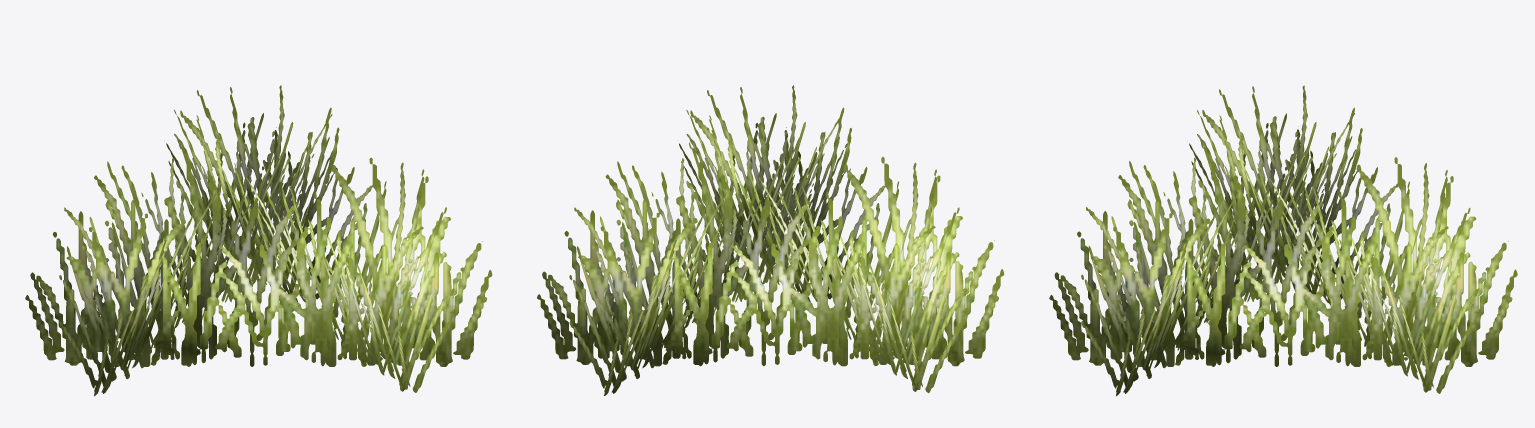
The model's file is grass_tropic_field.glb.
3 views of the same model, side by side, from view 1: azimuth 30°, elevation 25°; view 2: azimuth 150°, elevation 25°; view 3: azimuth 270°, elevation 25° (orthographic).
Visible parts, largest first — view 1: grass_tropic_field; view 2: grass_tropic_field; view 3: grass_tropic_field.
Boxes of the visible parts, x1,y1,x2,y2 form: grass_tropic_field: [25, 85, 492, 396]; grass_tropic_field: [537, 85, 1004, 395]; grass_tropic_field: [1049, 85, 1517, 396].
Bounding box in the file's own units: 3.46 × 1.61 × 3.41.
Materials: 1 (1 with a texture image).
